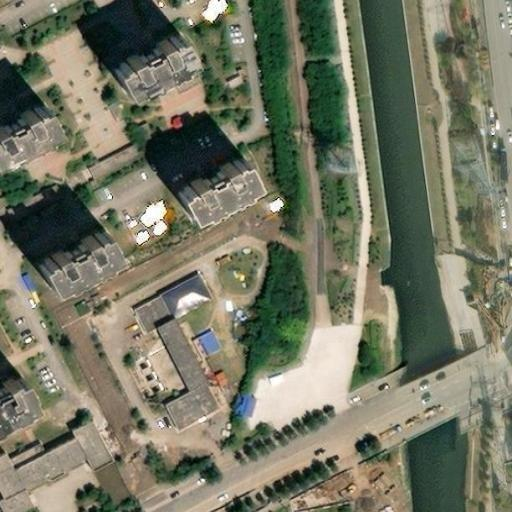building: (0, 436, 117, 512), (131, 286, 215, 350), (174, 385, 248, 444), (159, 332, 213, 406), (45, 237, 117, 288), (121, 40, 193, 91), (185, 165, 256, 216), (0, 111, 57, 160), (83, 136, 142, 181), (131, 365, 180, 418), (190, 339, 230, 382), (221, 66, 244, 87)
